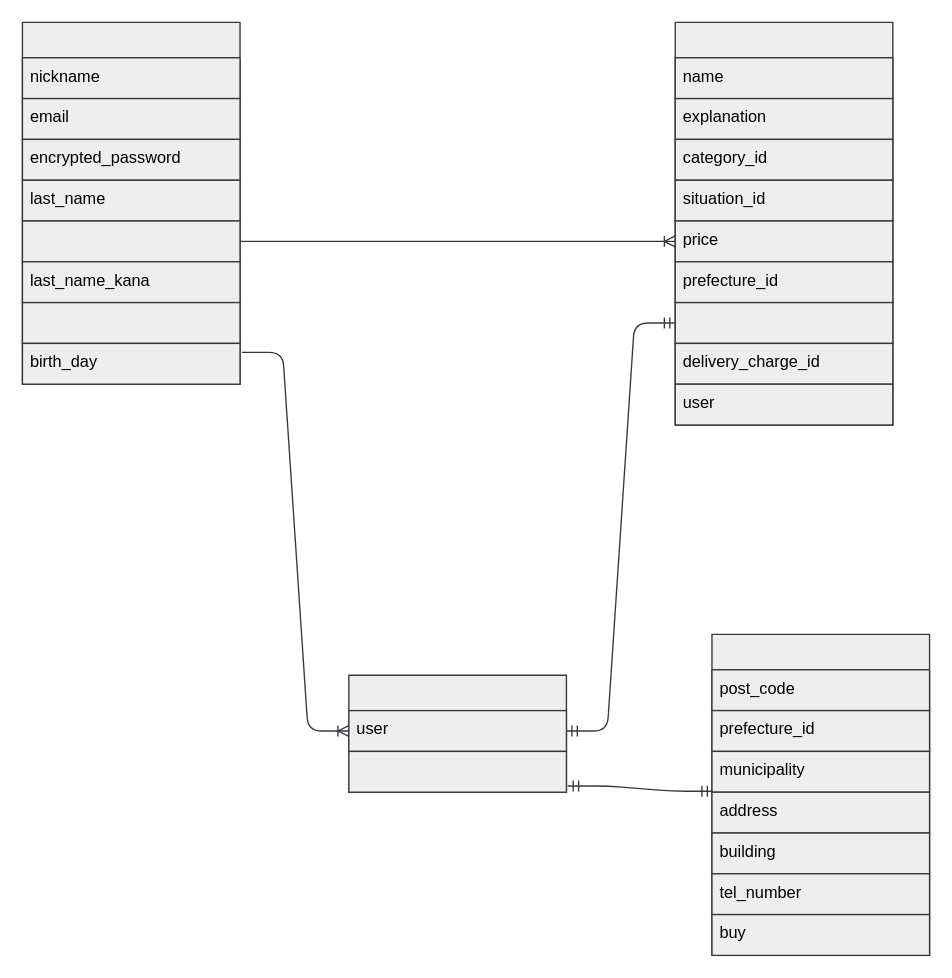
This 952x978 diagram has some shape labels left out. The box of each missing label's shape, as (x1, y1, x2, y2) in pixels:
Buys: (347, 674, 566, 792)
first_name: (21, 220, 240, 262)
first_name_kana: (21, 301, 240, 343)
item: (347, 750, 566, 792)
Items: (674, 21, 893, 425)
Shipping_addresses: (711, 633, 930, 955)
shipping_day_id: (674, 301, 893, 343)
Users: (21, 21, 240, 384)
